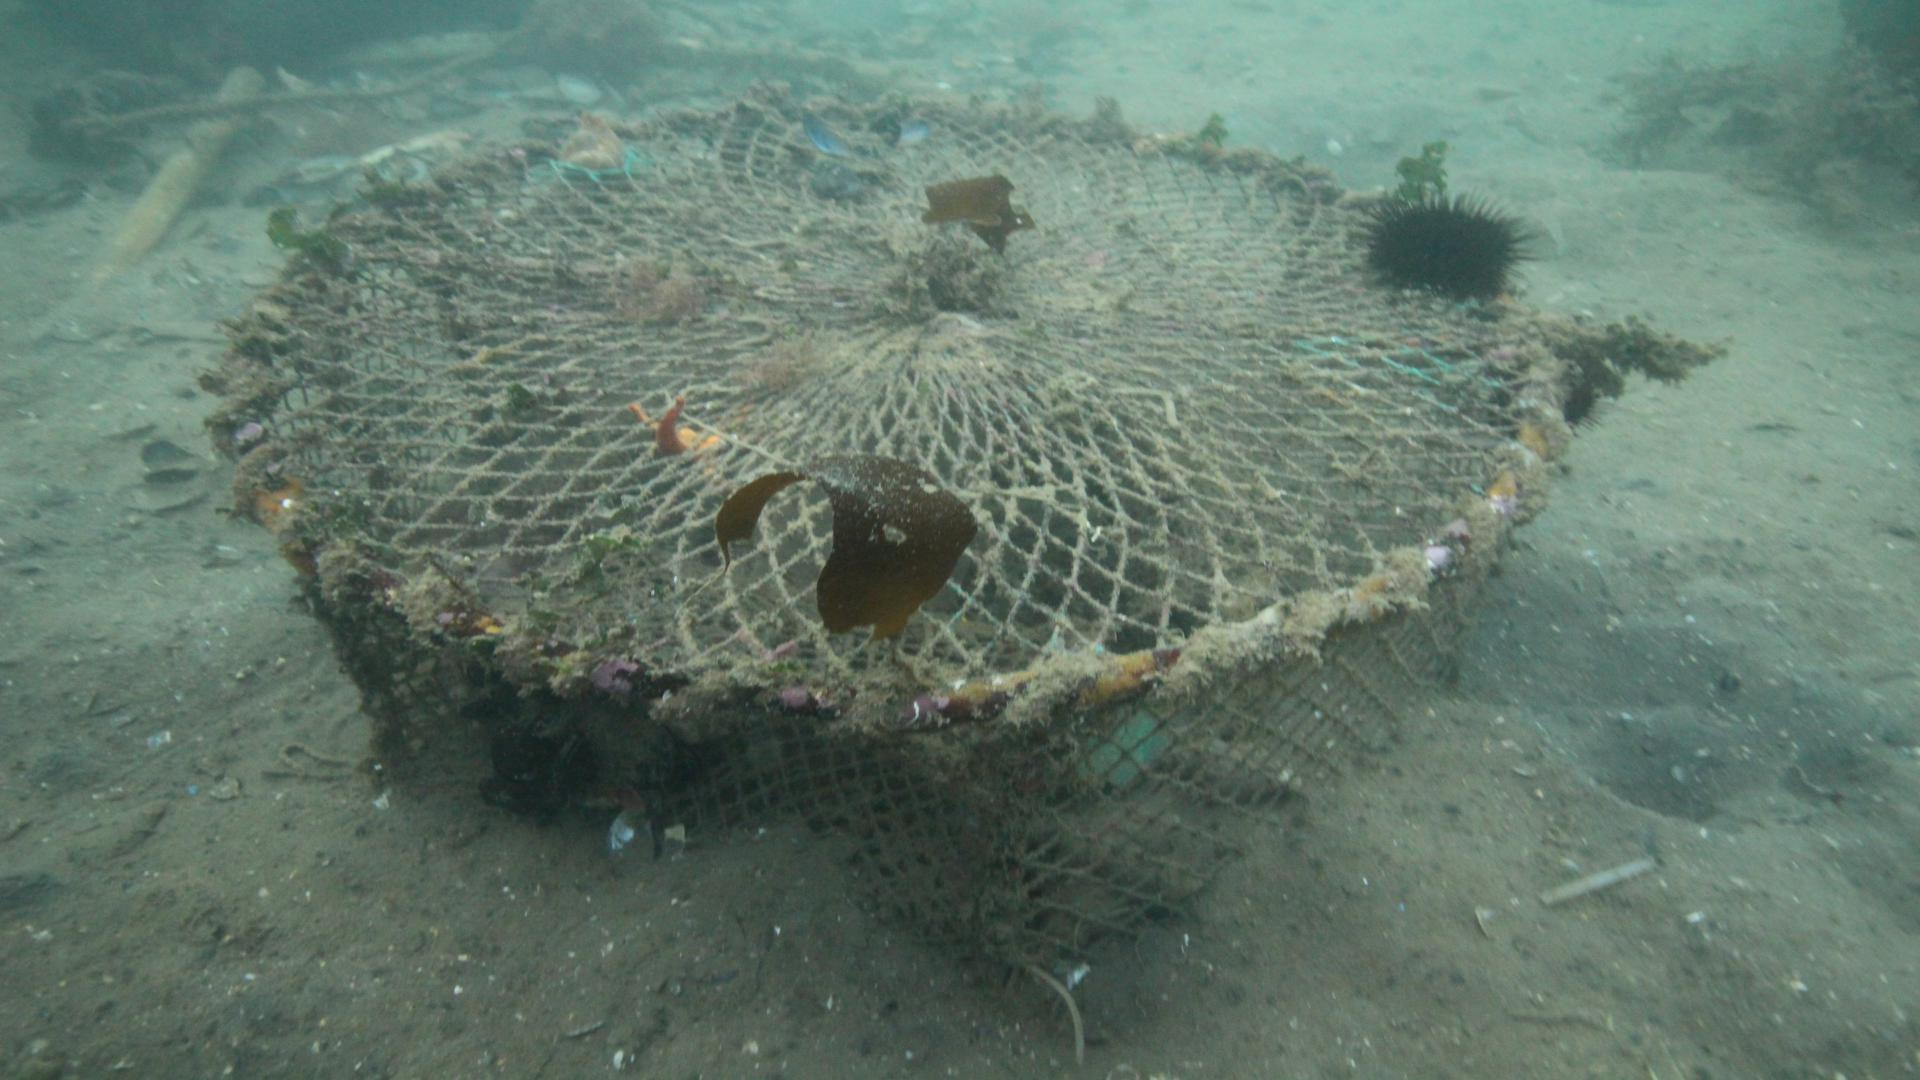circular fish trap: (218, 95, 1565, 1010)
